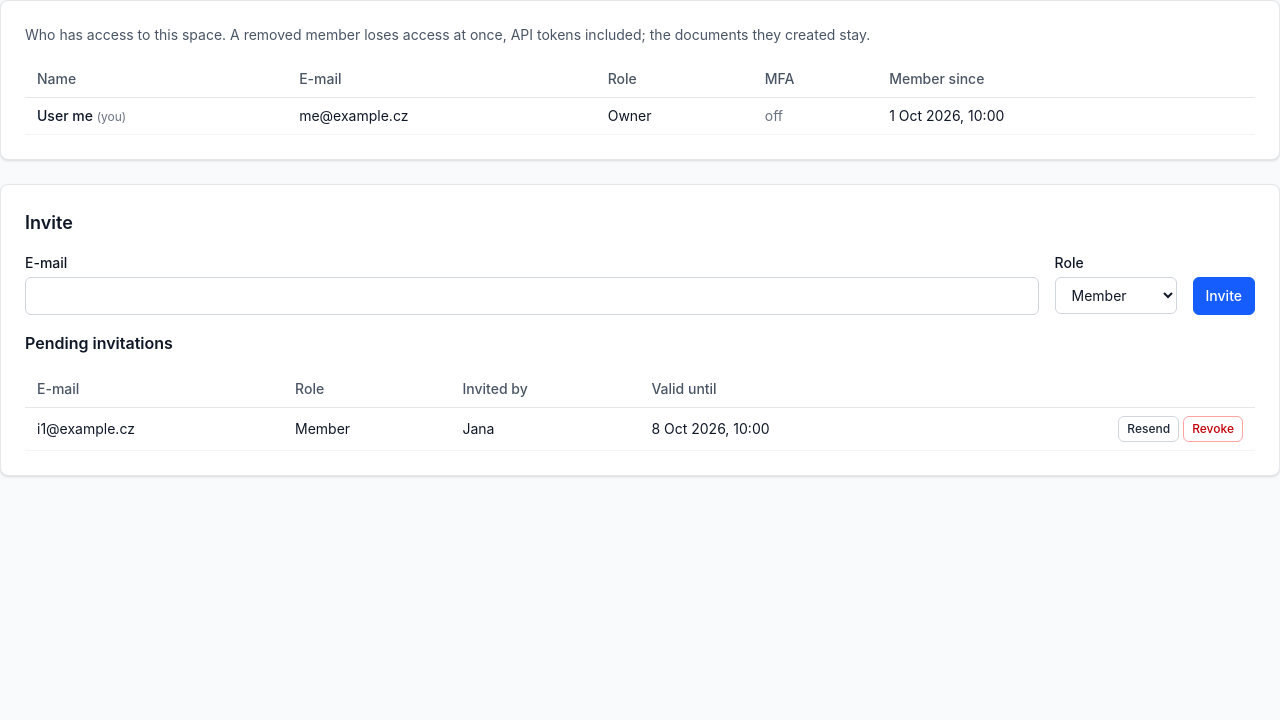
Test: MembersTab › shows a rate-limited invite and resend readably
This screenshot has width=1280, height=720.
Type "petr@example.cz" into the field with test id "invite-email".
click(532, 296); type("petr@example.cz")  # box [25,277,1038,315]
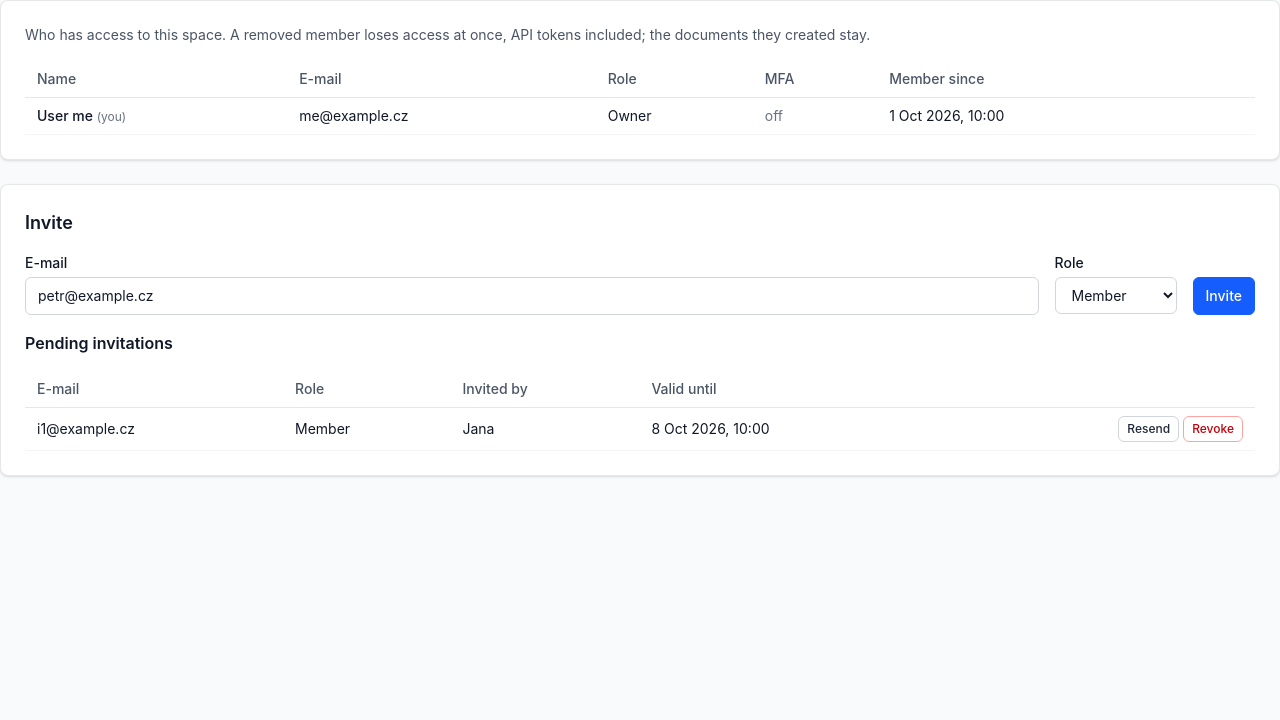
Submit the form, box [25,253,1255,315]
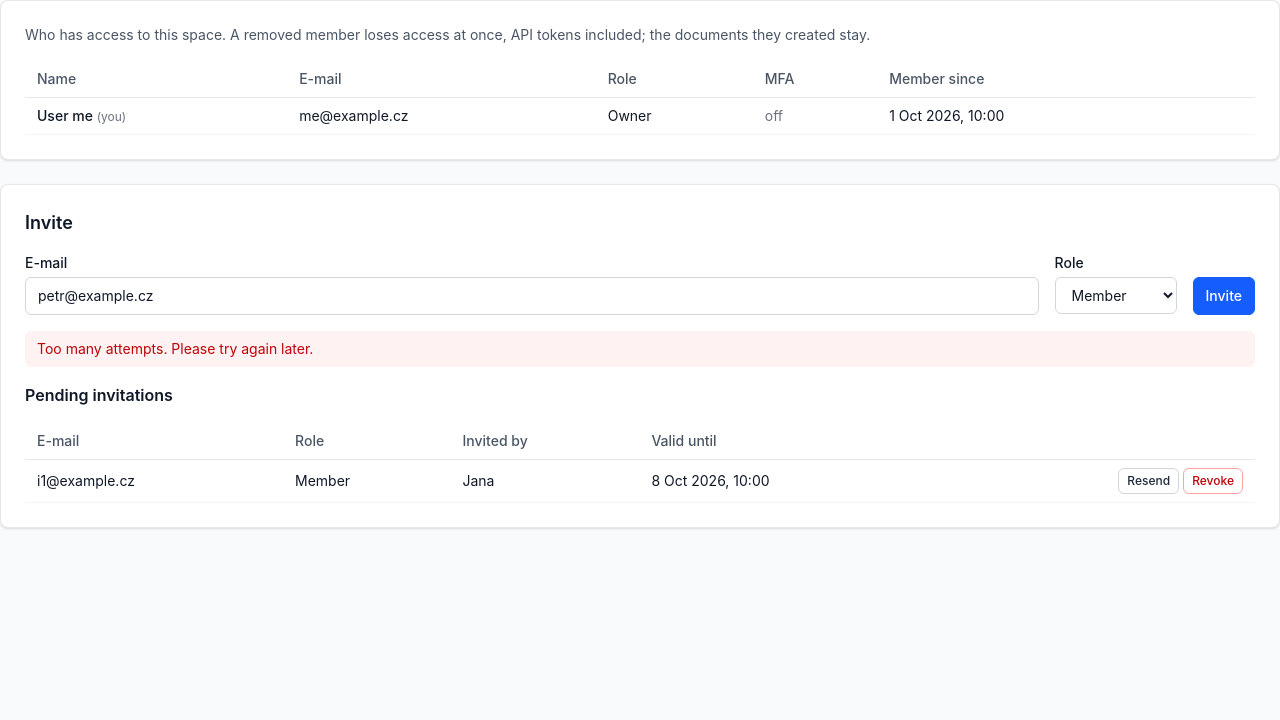
Check: the message with test id "invite-error" reads "Too many attempts. Please try again later.", box [37,340,313,357]
Click the button with test id "invite-resend".
click(1149, 481)  # box [1118,468,1179,494]
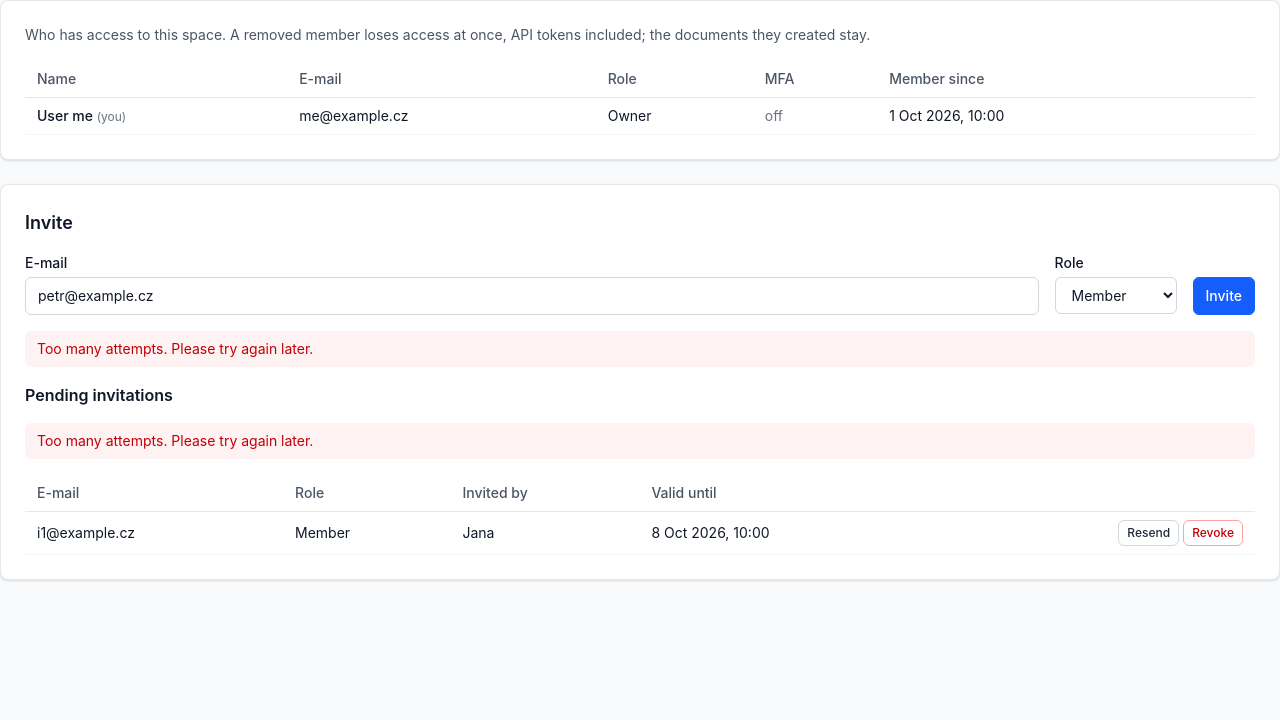
Check: the message with test id "invites-error" reads "Too many attempts. Please try again later.", box [37,432,313,449]
